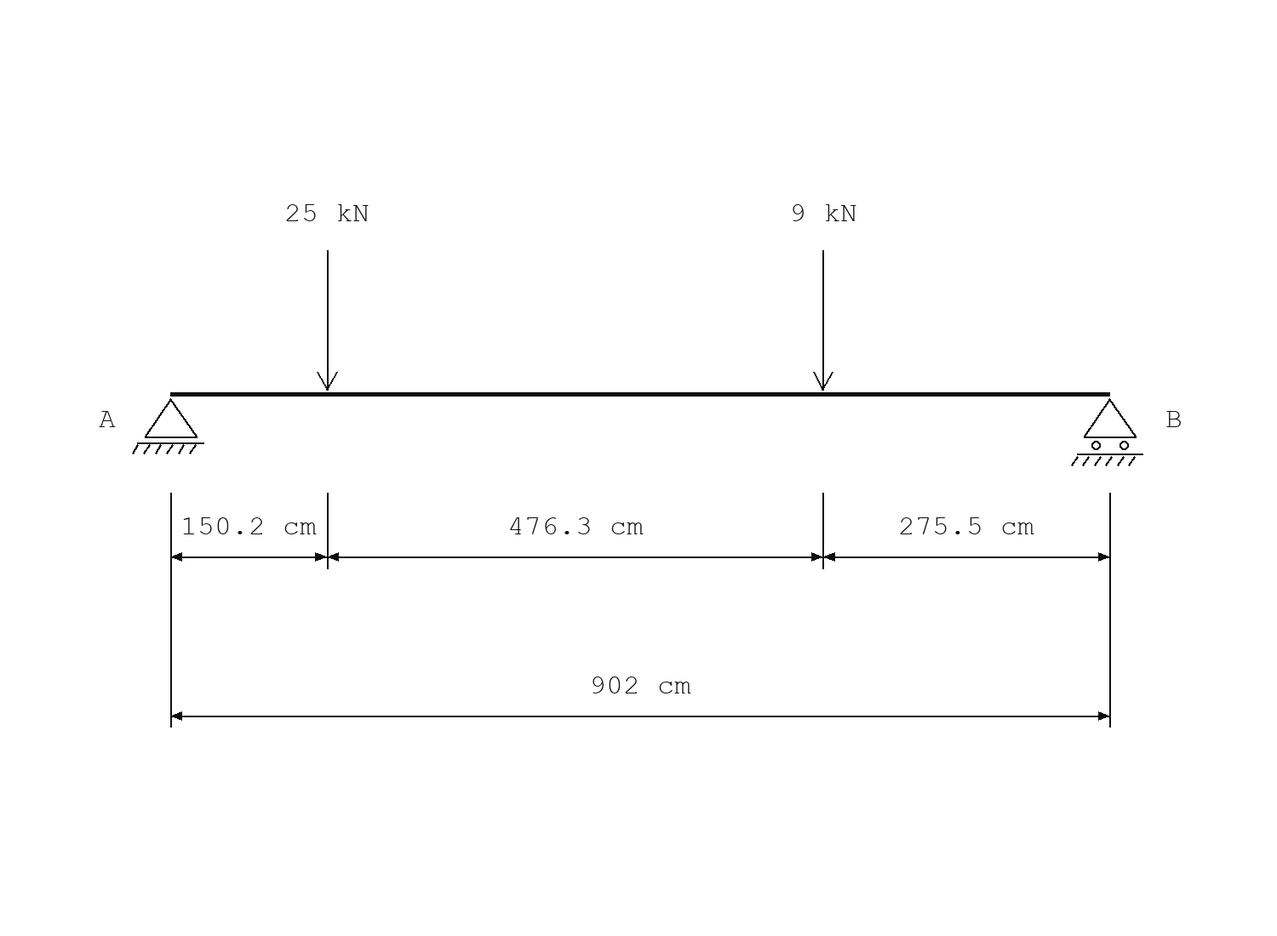pin_support: (132, 398, 204, 454)
point_load: (317, 250, 338, 391), (813, 250, 833, 391)
roller_support: (1071, 398, 1143, 466)
